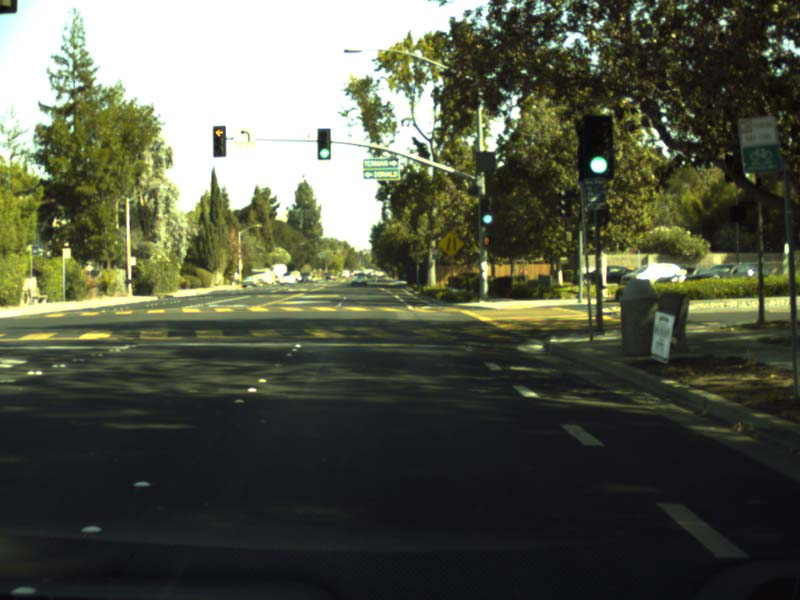Green: (583, 117, 609, 177), (318, 128, 329, 159), (481, 198, 491, 225)
Red: (213, 126, 225, 156)
